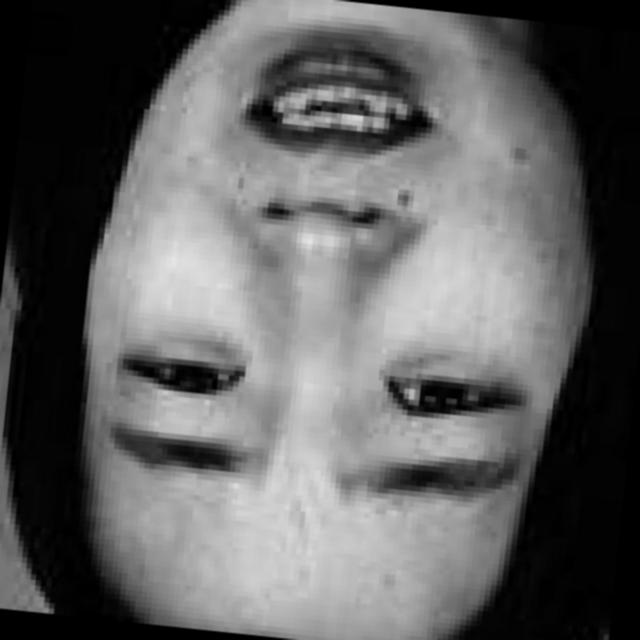fear: (73, 0, 591, 638)
